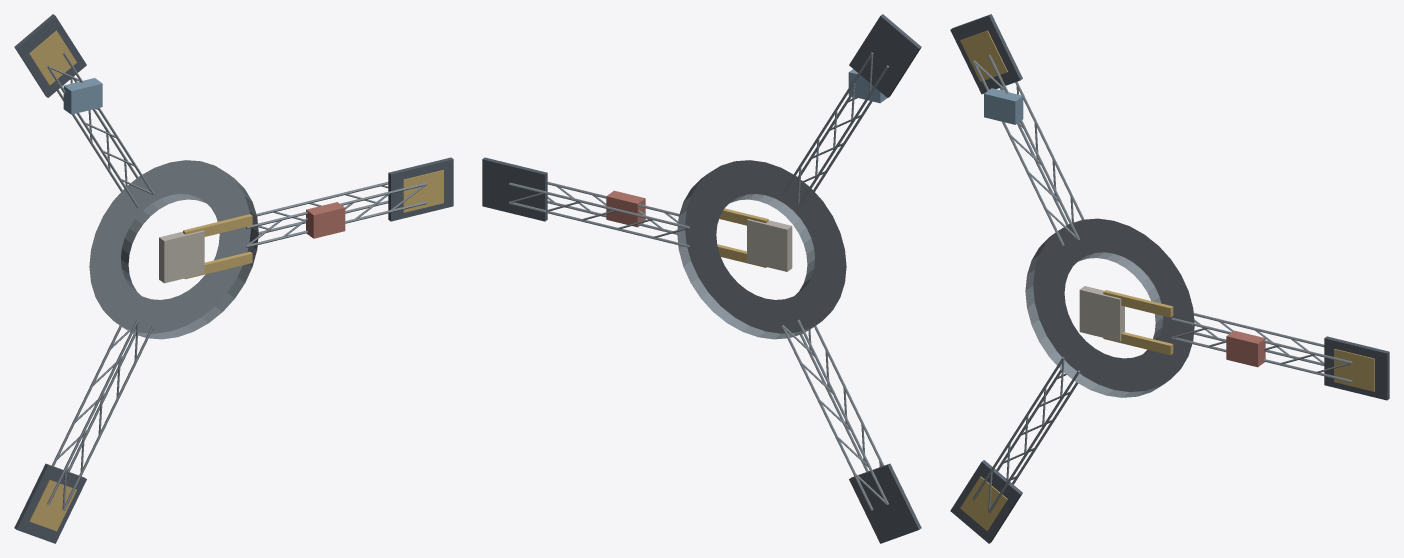
Rendered from 11_tethys_switchyard.glb.
3 renders of one model, left to right at view 1: azimuth 30°, elevation 25°; view 2: azimuth 150°, elevation 25°; view 3: azimuth 330°, elevation 25°, orthographic.
Visible parts, largest first — view 1: part_001, part_050, part_016, part_048, part_032, part_033, part_049, part_017, part_053, part_054, part_051, part_036 (+2 smaller); view 2: part_001, part_016, part_032, part_048, part_050, part_053, part_037, part_035, part_054, part_003, part_005, part_019; view 3: part_001, part_050, part_016, part_032, part_048, part_017, part_033, part_049, part_054, part_053, part_051, part_052 (+3 smaller).
Boxes of the visible parts, box(x1,y1,x2,y2) form: part_001: box(89, 160, 258, 339); part_050: box(159, 230, 204, 283); part_016: box(388, 157, 453, 221); part_048: box(14, 463, 86, 543); part_032: box(14, 14, 86, 97); part_033: box(29, 30, 76, 85); part_049: box(29, 480, 76, 531); part_017: box(403, 170, 443, 212); part_053: box(306, 202, 345, 238); part_054: box(63, 78, 102, 114); part_051: box(183, 214, 252, 236); part_036: box(47, 319, 138, 504); part_001: box(677, 160, 846, 339); part_016: box(482, 157, 547, 221); part_032: box(849, 14, 921, 97); part_048: box(849, 463, 921, 543); part_050: box(747, 219, 792, 271); part_053: box(606, 190, 645, 227); part_037: box(797, 319, 888, 504); part_035: box(781, 325, 873, 510); part_054: box(848, 69, 886, 103); part_003: box(509, 182, 689, 228); part_005: box(509, 201, 689, 247); part_019: box(797, 65, 888, 208); part_001: box(1025, 218, 1194, 397); part_050: box(1079, 286, 1124, 341); part_016: box(1324, 336, 1389, 400); part_032: box(950, 14, 1022, 94); part_048: box(950, 460, 1022, 543); part_017: box(1334, 349, 1374, 391); part_033: box(960, 30, 1007, 81); part_049: box(960, 476, 1007, 531); part_054: box(984, 88, 1023, 124); part_053: box(1226, 330, 1265, 367); part_051: box(1103, 290, 1173, 317); part_052: box(1103, 332, 1173, 355).
Bounding box in the file's own units: 97.33 × 112 × 6.76.
